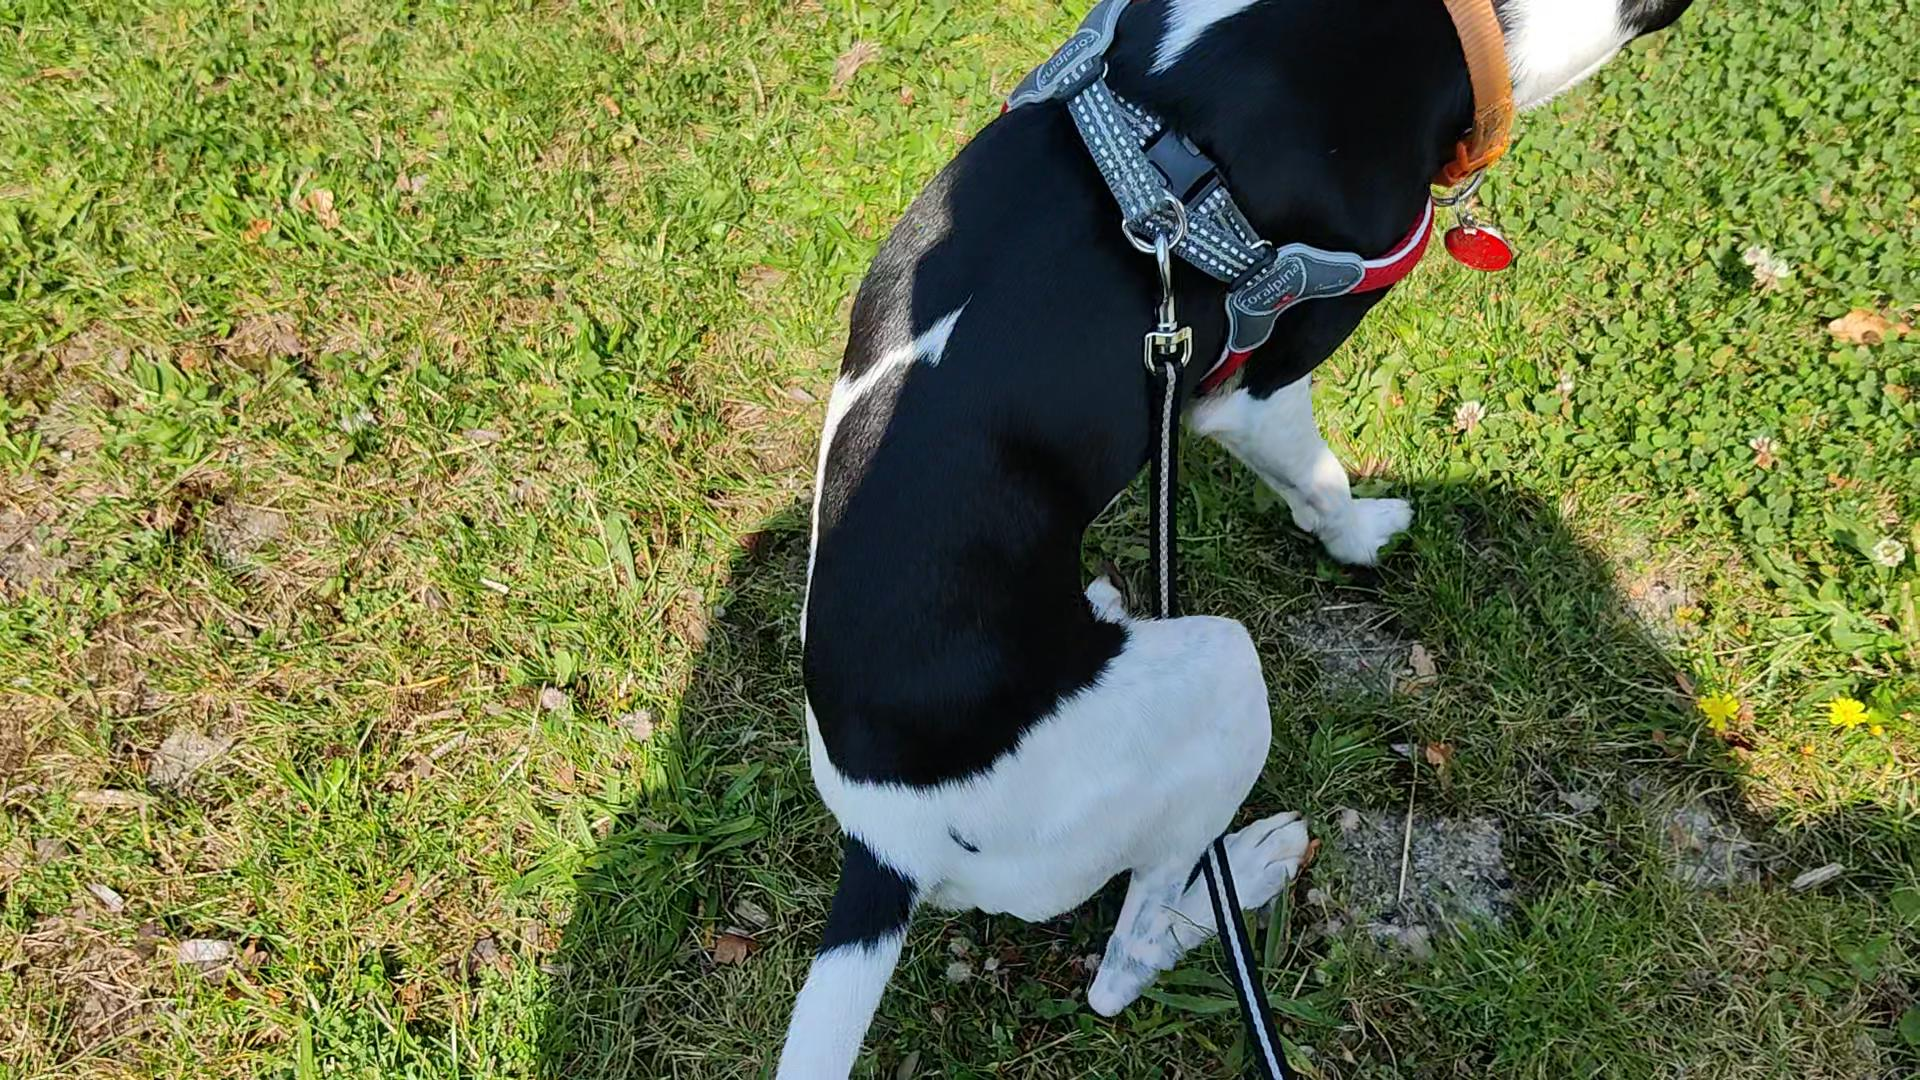Dog: (748, 0, 1712, 1080)
